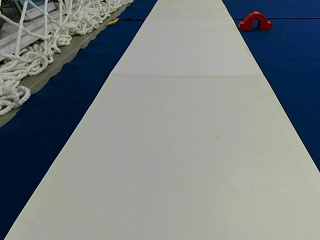bridge: (239, 11, 271, 29)
